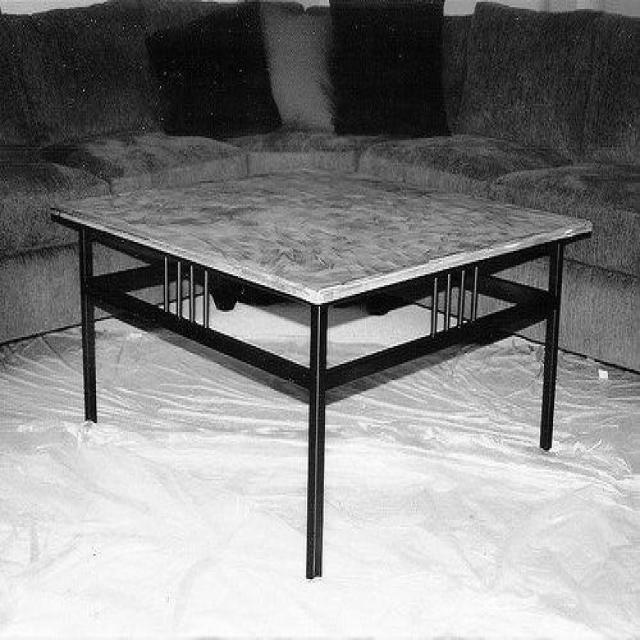table: (54, 160, 592, 580)
